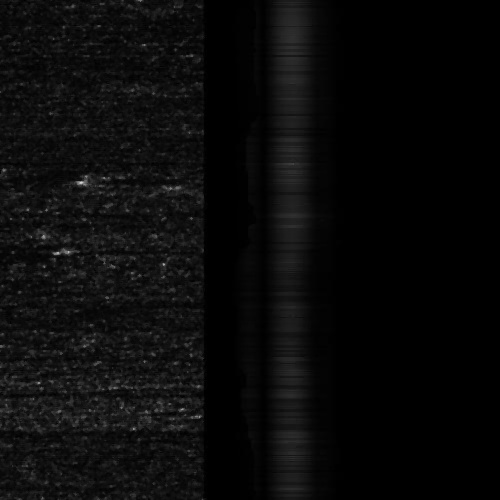object: (68, 174, 151, 183), (29, 245, 82, 252)
shadow: (109, 174, 205, 183), (55, 245, 151, 252)
